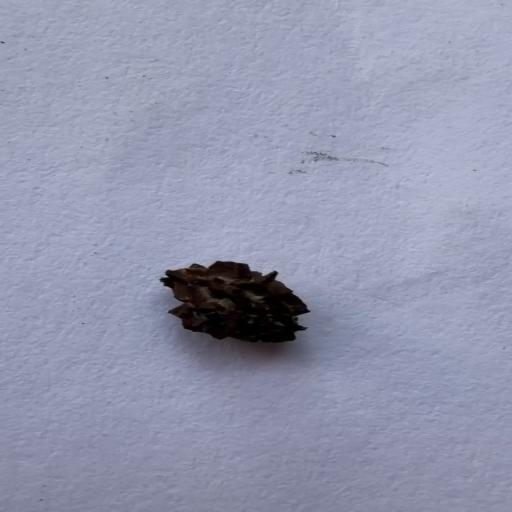papaya_seed: (162, 262, 317, 346)
